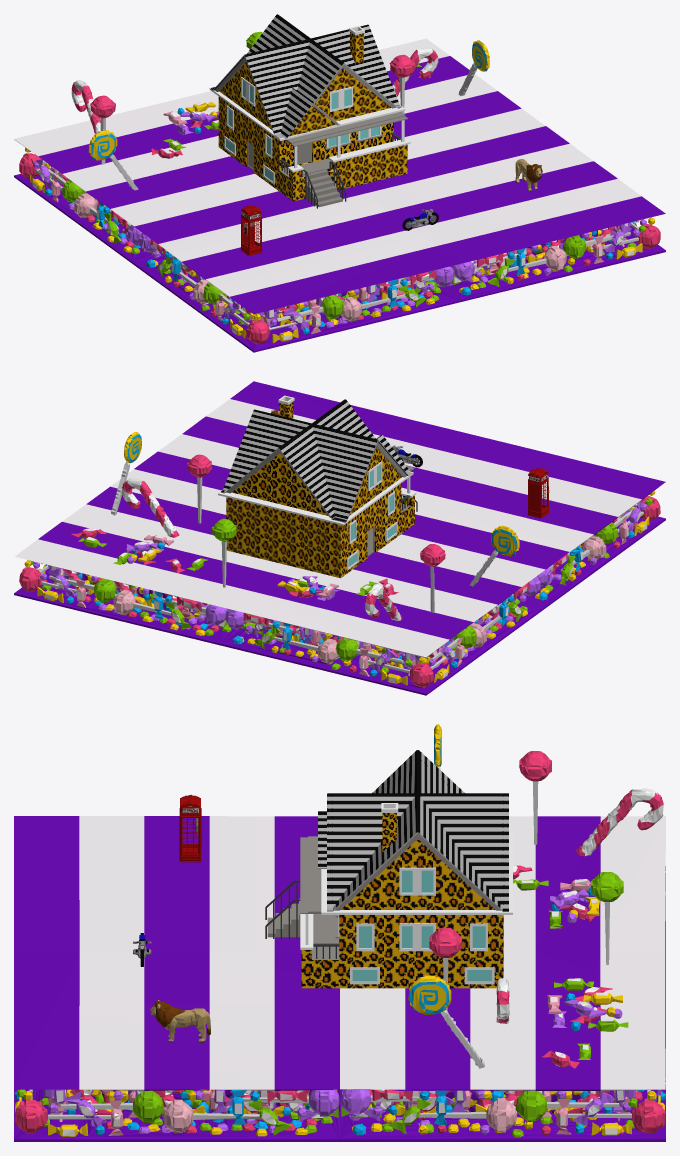
3 views of the same model, one above another, from view 1: azimuth 30°, elevation 25°; view 2: azimuth 150°, elevation 25°; view 3: azimuth 270°, elevation 25° (orthographic). The views are drawn at different scales.
Parts seen in each view (by area): view 1: TERRAIN_CANDY, Cube.637, OBJRANDOM_PHONEBOOTH, ANIMAL_LEON; view 2: TERRAIN_CANDY, Cube.637, OBJRANDOM_PHONEBOOTH; view 3: TERRAIN_CANDY, Cube.637, ANIMAL_LEON, OBJRANDOM_PHONEBOOTH.
Boxes of the visible parts, x1,y1,x2,y2 form: TERRAIN_CANDY: (14, 31, 665, 352); Cube.637: (209, 14, 410, 208); OBJRANDOM_PHONEBOOTH: (241, 205, 262, 255); ANIMAL_LEON: (515, 159, 542, 191); TERRAIN_CANDY: (14, 381, 665, 695); Cube.637: (218, 395, 417, 578); OBJRANDOM_PHONEBOOTH: (527, 468, 549, 518); TERRAIN_CANDY: (14, 724, 665, 1141); Cube.637: (265, 750, 512, 988); ANIMAL_LEON: (149, 1000, 210, 1042); OBJRANDOM_PHONEBOOTH: (179, 794, 201, 862).
Bounding box in the file's own units: 4059 × 1588 × 4000.
Materials: 31 (3 with a texture image).
